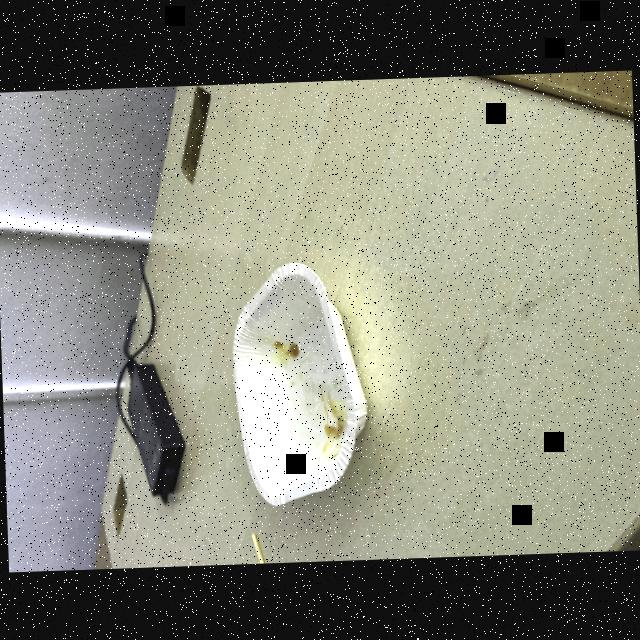cardboard_bowl: (222, 256, 382, 510)
